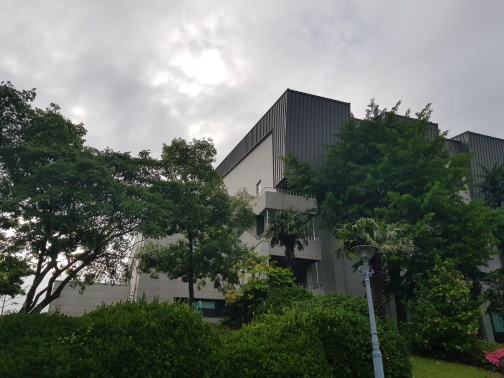Gym: (216, 87, 498, 319)
